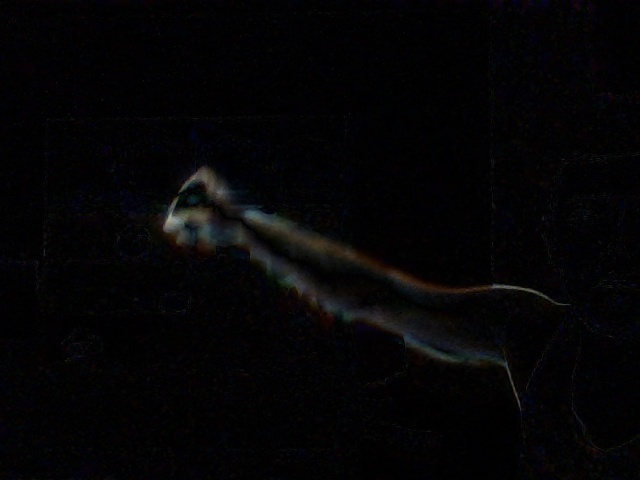hand_fi: (151, 155, 241, 261)
